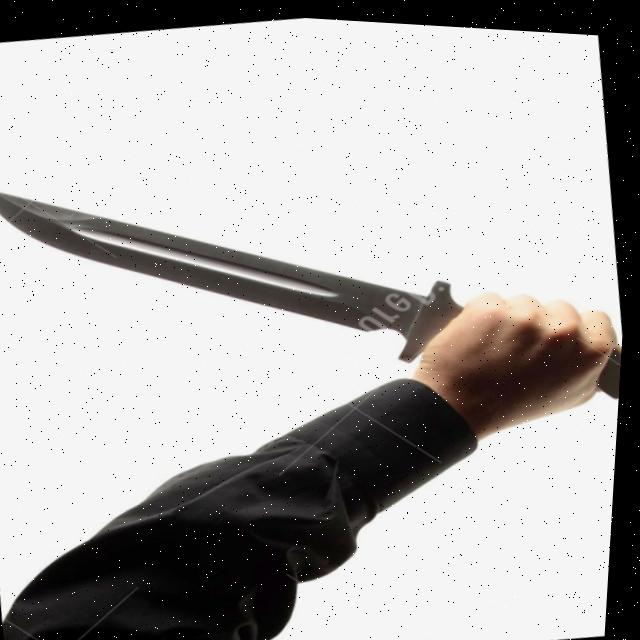knife: (0, 110, 479, 411)
